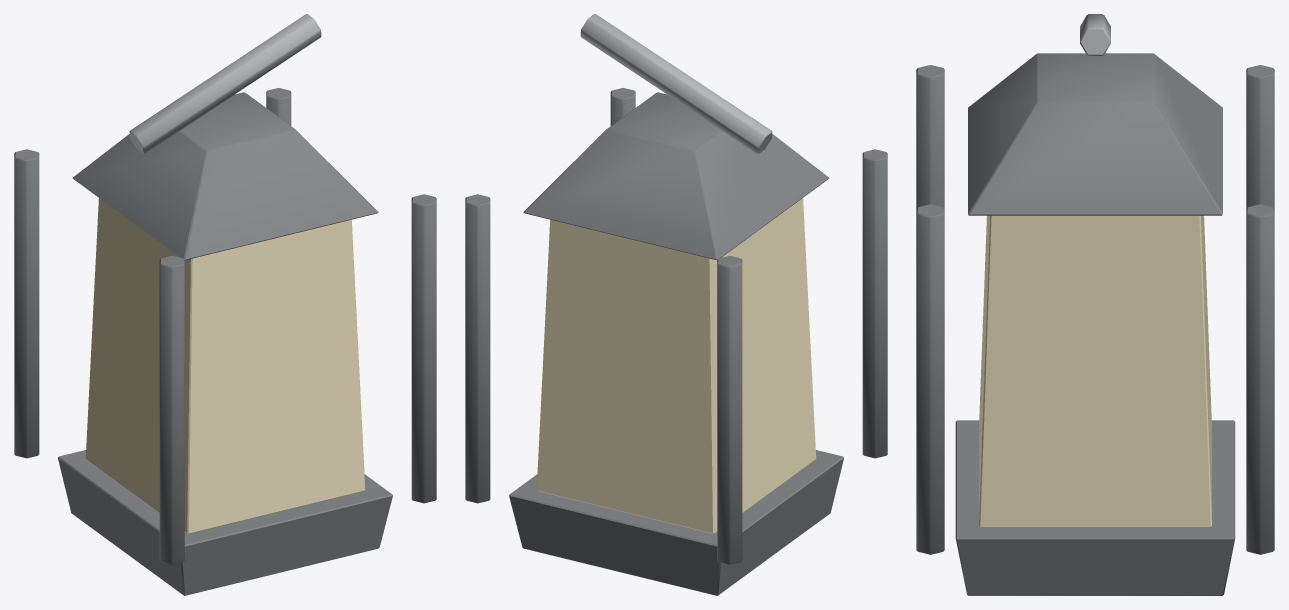
File: IT_torch_lantern.fbx
3 renders of one model, left to right at view 1: azimuth 30°, elevation 25°; view 2: azimuth 150°, elevation 25°; view 3: azimuth 270°, elevation 25°, orthographic. The views are drawn at different scales.
Visible parts, largest first — view 1: IT_torch_lantern; view 2: IT_torch_lantern; view 3: IT_torch_lantern.
Part boxes in pixels (<box>): IT_torch_lantern: <box>14,14,436,595</box>; IT_torch_lantern: <box>465,14,887,595</box>; IT_torch_lantern: <box>916,14,1274,595</box>.
Size of the model in its own units: 0.3096 by 0.5308 by 0.3071.
